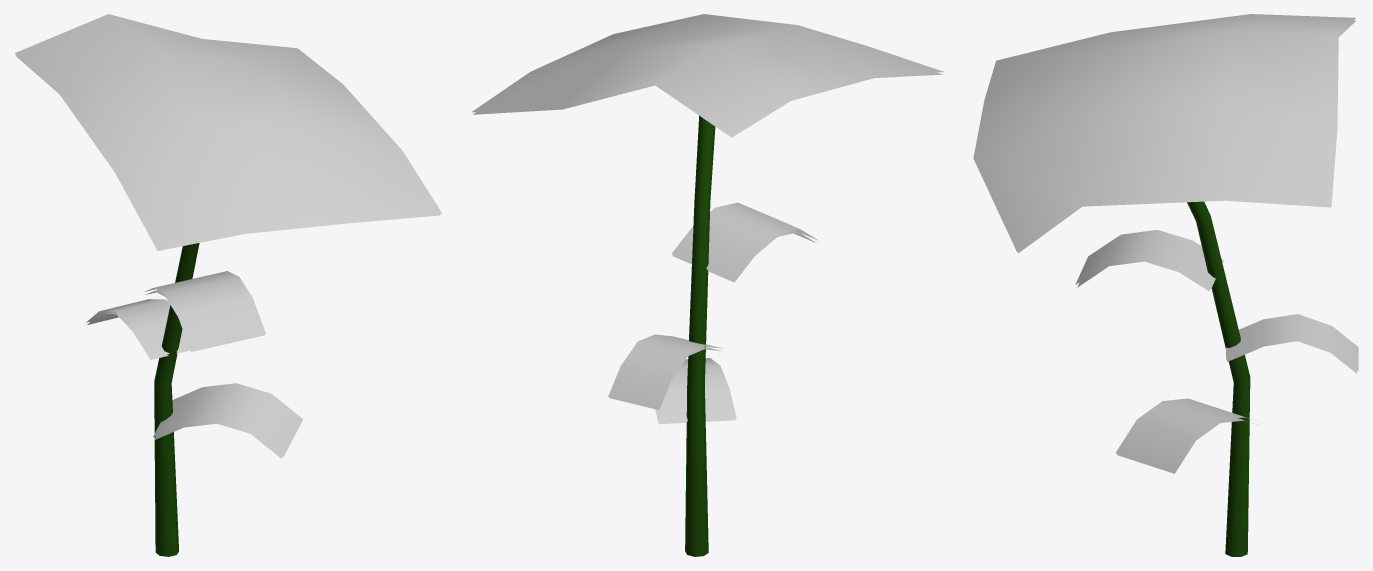
The model's file is Flor violeta.fbx.
3 renders of one model, left to right at view 1: azimuth 30°, elevation 25°; view 2: azimuth 150°, elevation 25°; view 3: azimuth 270°, elevation 25°, orthographic.
Parts seen in each view (by area): view 1: Flor violeta 1, Hoja de flor violeta 1 (×3), Tallo 2; view 2: Flor violeta 1, Hoja de flor violeta 1 (×3), Tallo 2; view 3: Flor violeta 1, Hoja de flor violeta 1 (×3), Tallo 2.
Boxes of the visible parts, x1,y1,x2,y2 form: Flor violeta 1: (14,14,441,250); Hoja de flor violeta 1 (×3): (86,271,303,458); Tallo 2: (154,243,199,556); Flor violeta 1: (471,14,943,137); Hoja de flor violeta 1 (×3): (608,202,817,424); Tallo 2: (685,115,715,556); Flor violeta 1: (973,14,1355,252); Hoja de flor violeta 1 (×3): (1075,230,1358,473); Tallo 2: (1187,201,1250,556).
Size of the model in its own units: 10.96 by 11.78 by 17.31.
